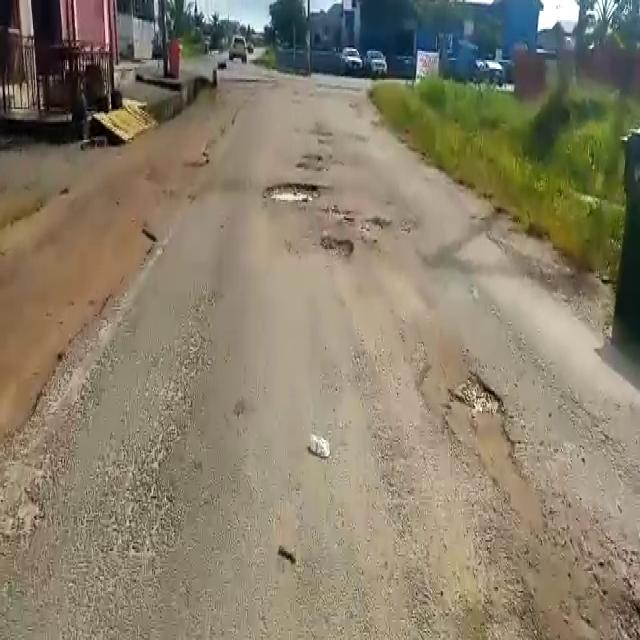Pothole: (438, 375, 544, 539), (262, 178, 320, 200), (317, 234, 356, 256)
